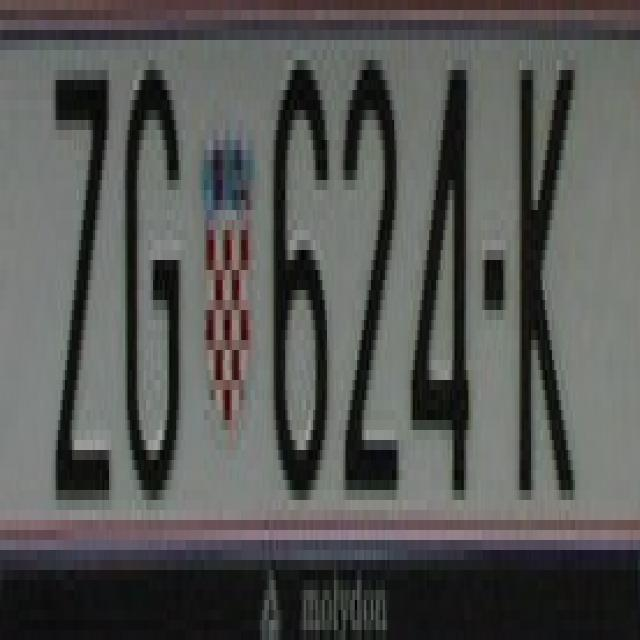2: (343, 60, 399, 500)
4: (417, 50, 478, 500)
6: (276, 70, 332, 510)
G: (120, 50, 181, 500)
K: (510, 70, 591, 510)
Z: (54, 50, 112, 500)
